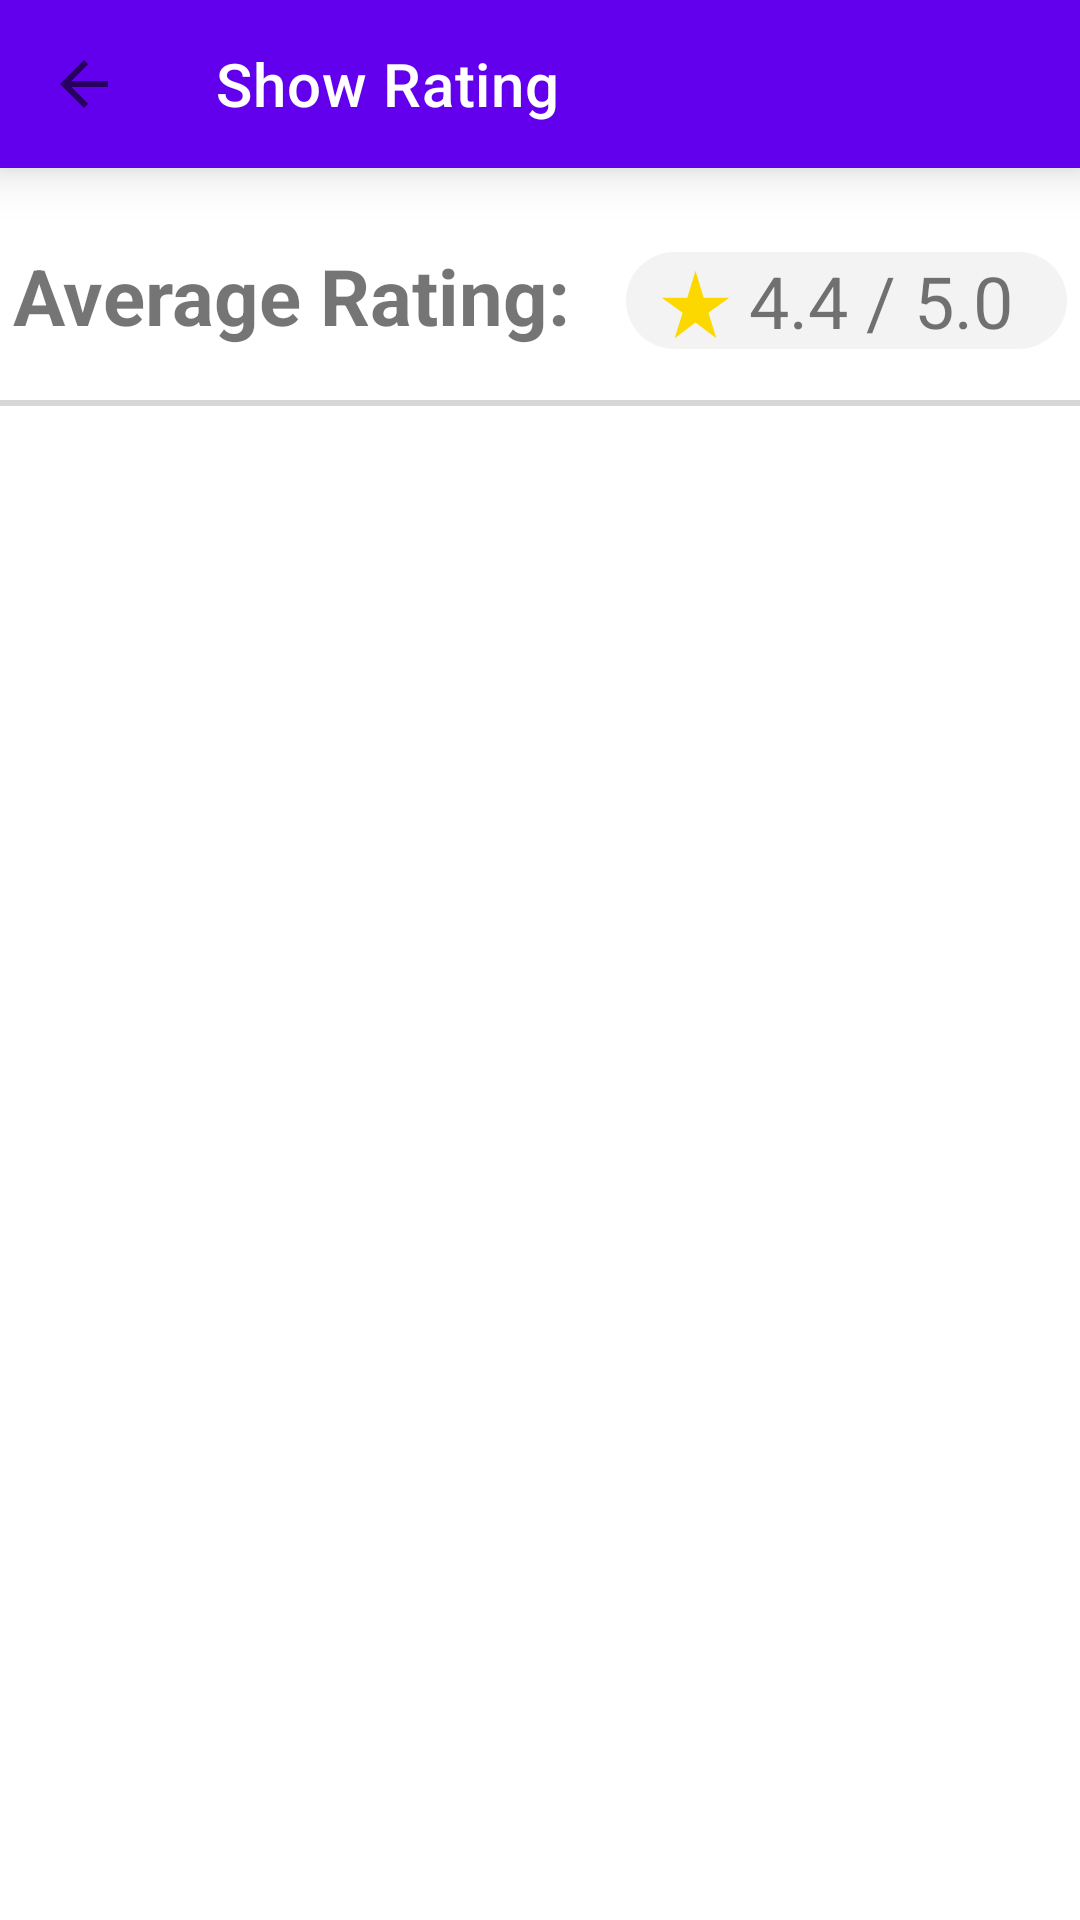

Icons on this 1080×1920 Android screen, each with its box as (x1, y1, x2, y2):
star rated: (662, 271, 729, 338)
